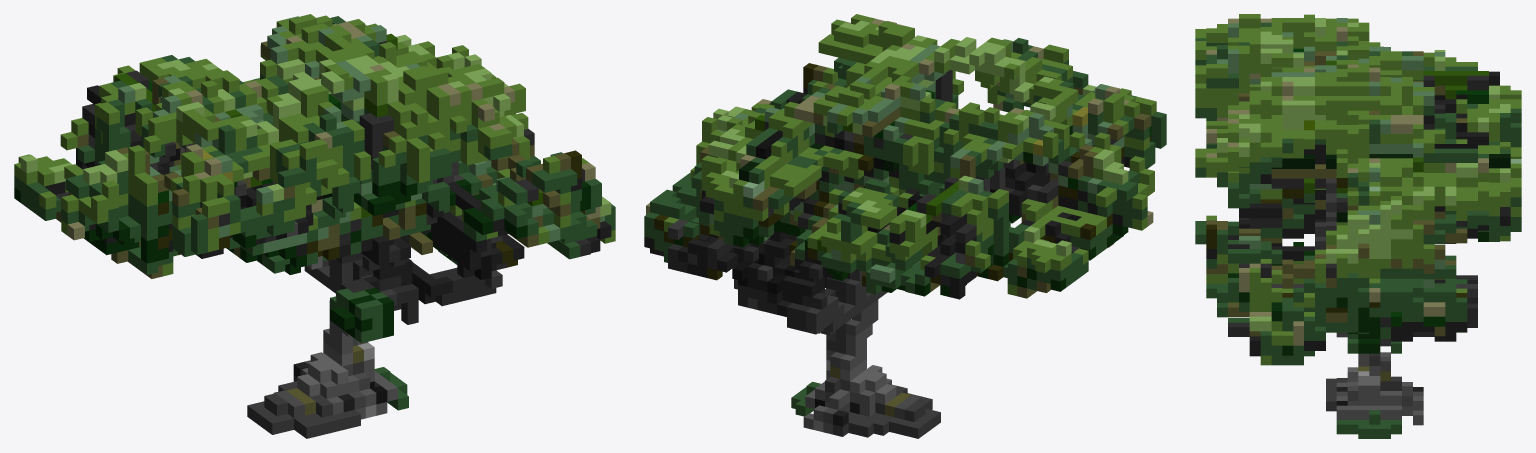
Rendered from PixelTree1.fbx.
The picture shows the model from 3 angles, left to right: view 1: azimuth 30°, elevation 25°; view 2: azimuth 150°, elevation 25°; view 3: azimuth 270°, elevation 25°; orthographic projection. The views are drawn at different scales.
Visible parts, largest first — view 1: x49_largetree; view 2: x49_largetree; view 3: x49_largetree.
Part boxes in pixels (x1,y1,x2,y2): x49_largetree: [14, 14, 615, 438]; x49_largetree: [644, 14, 1166, 438]; x49_largetree: [1195, 14, 1521, 438].
Bounding box in the file's own units: 4700 × 3400 × 3000.
